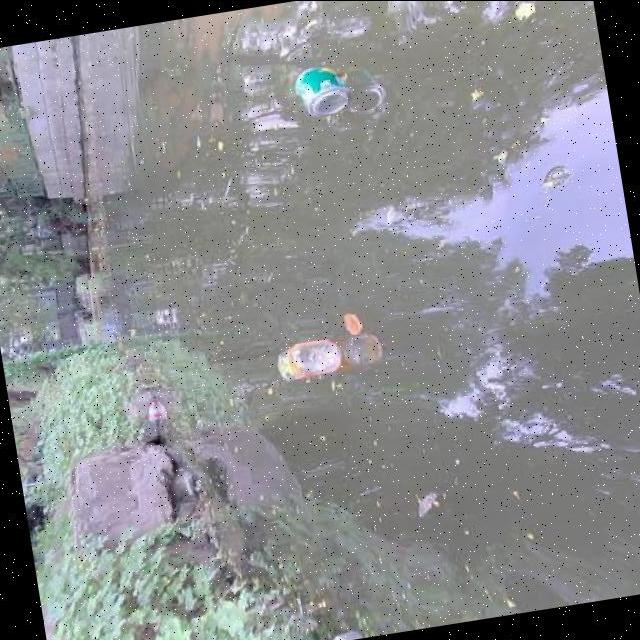Bottle: (271, 328, 345, 388), (287, 59, 353, 122)
